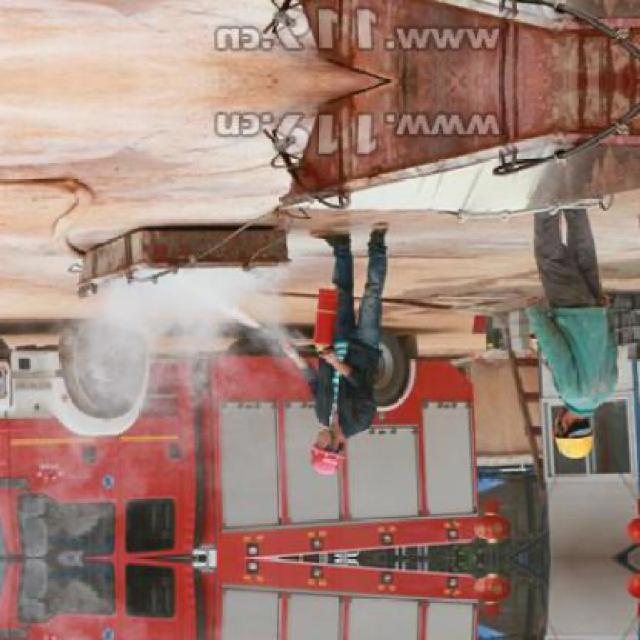con casco: (295, 416, 366, 482), (623, 470, 630, 474)
